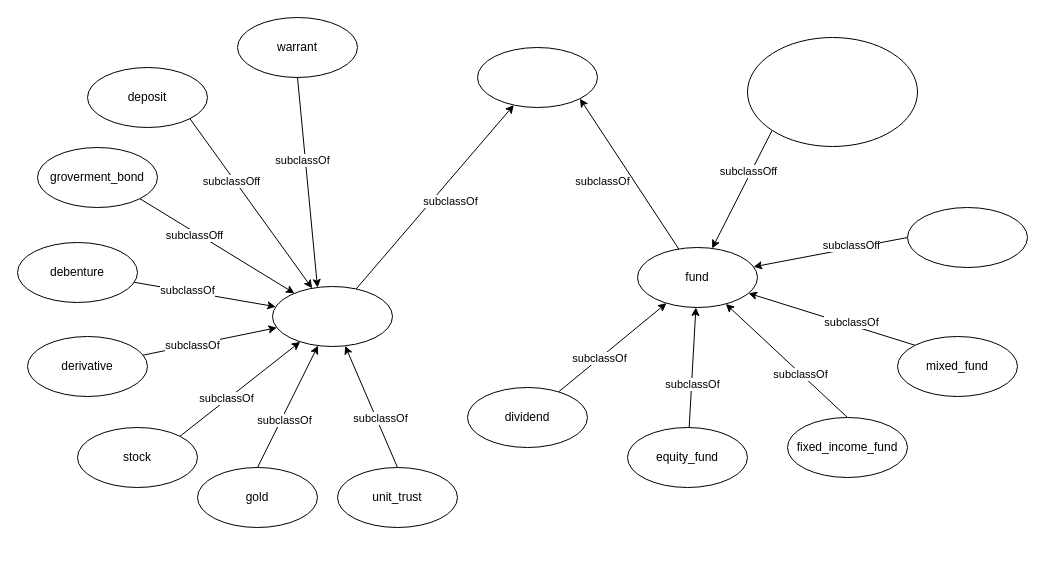
Image size: 1045x572. Some labels were removed from this diagram. Each missing label, with the centre of its shape:
alternative_investment_fund: the point at 832,91
Asset: the point at 332,316
other: the point at 967,237
Thing: the point at 537,77
